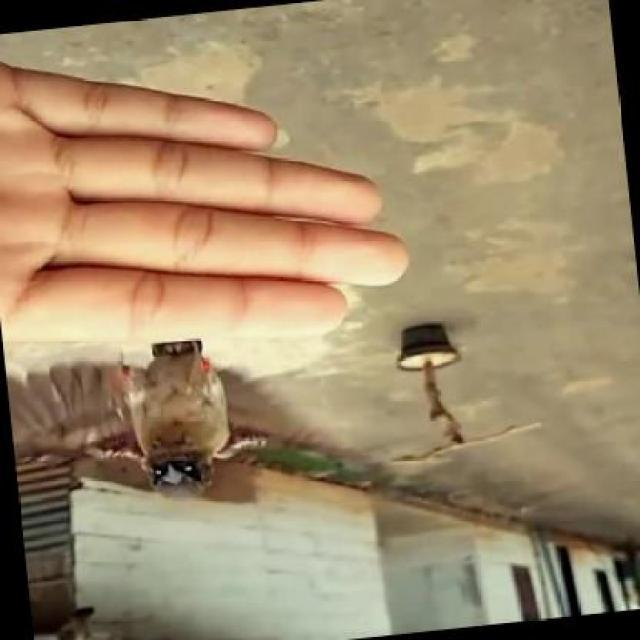Bird: (109, 322, 262, 502)
